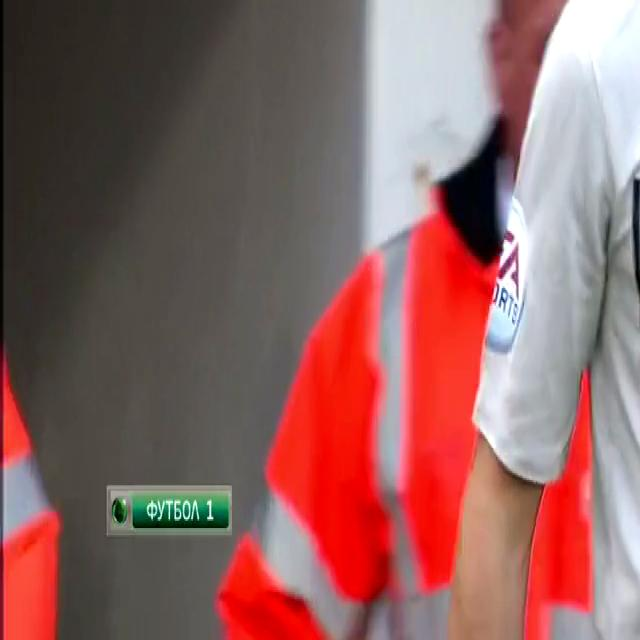goalkeeper: (4, 484, 78, 640)
